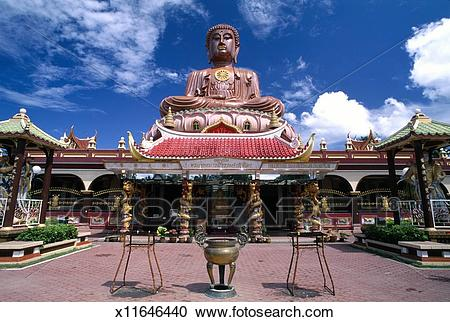Buddhist Temple: (145, 21, 304, 169)
